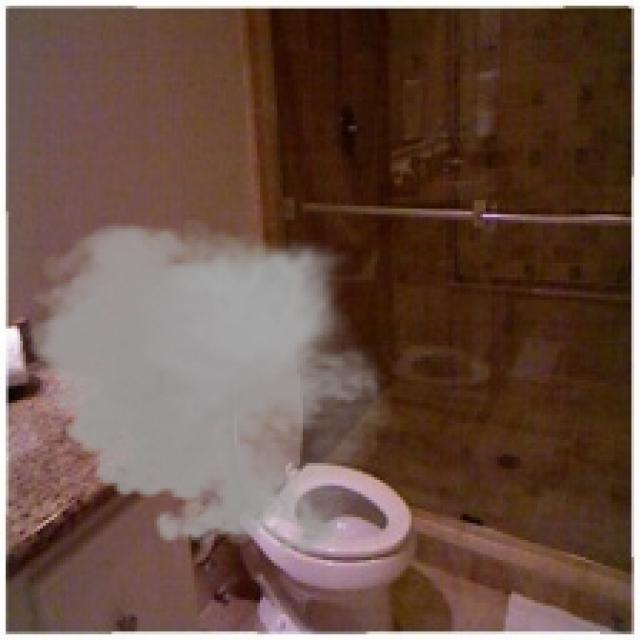smoke: (14, 211, 403, 566)
